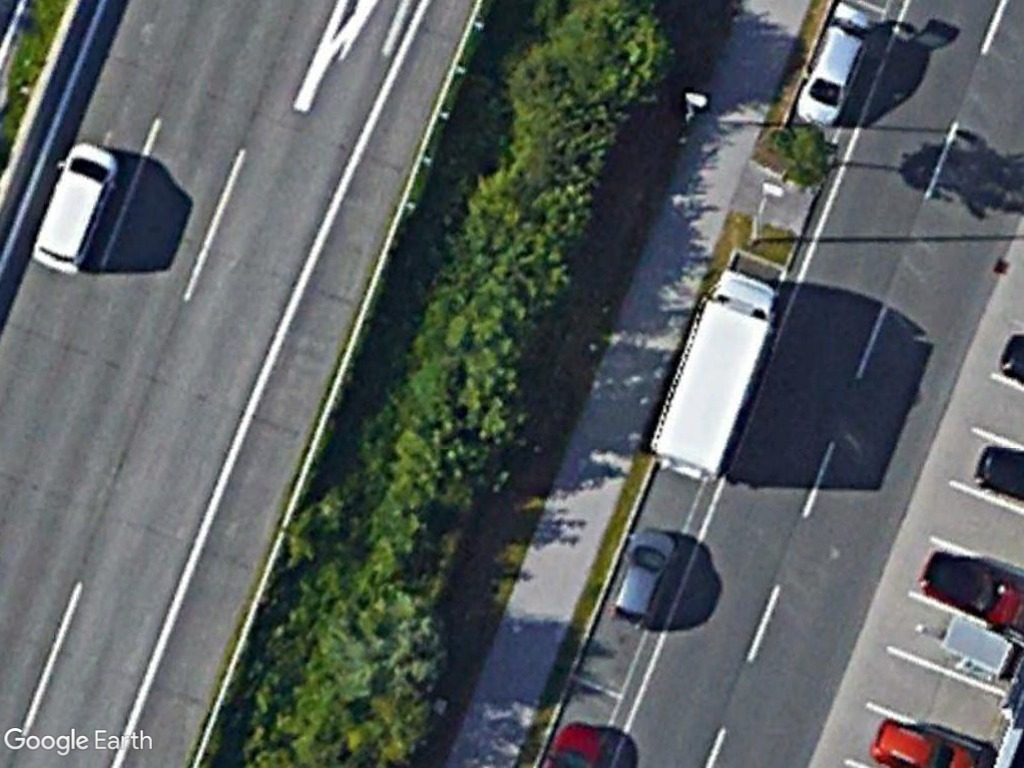car: (793, 21, 876, 132), (604, 522, 683, 633)
truck: (647, 261, 784, 484)
van: (27, 135, 122, 280)
